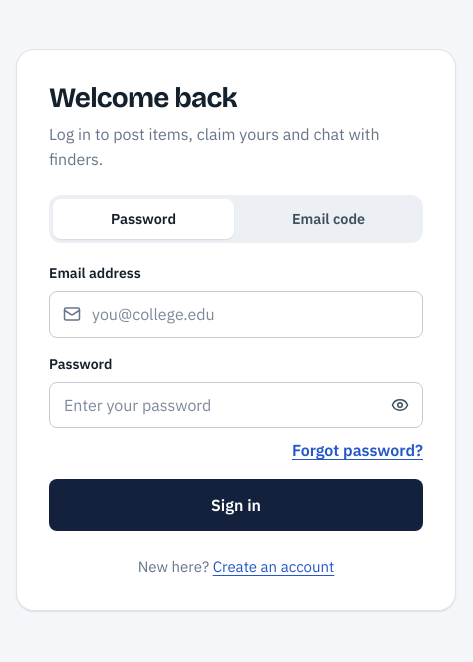
Test: Login page › shows the server error and does not navigate when login fails
Type "riya@college.edu" into the field labelled "Email address" at (236, 314), box [49,291,423,338]
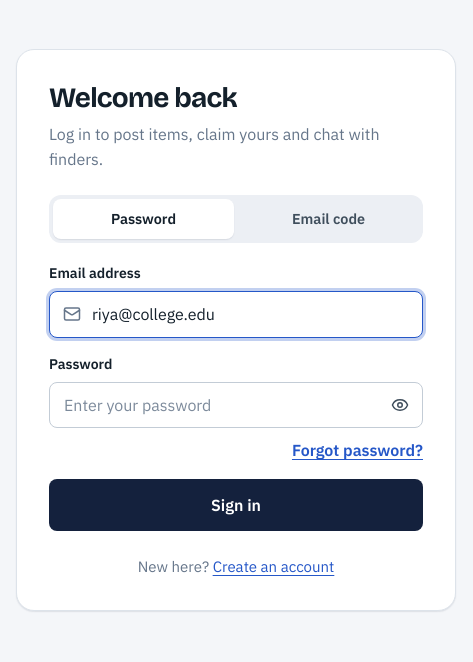
Type "wrong-password" into the password field labelled "Password" at (236, 405), box [49,382,423,428]
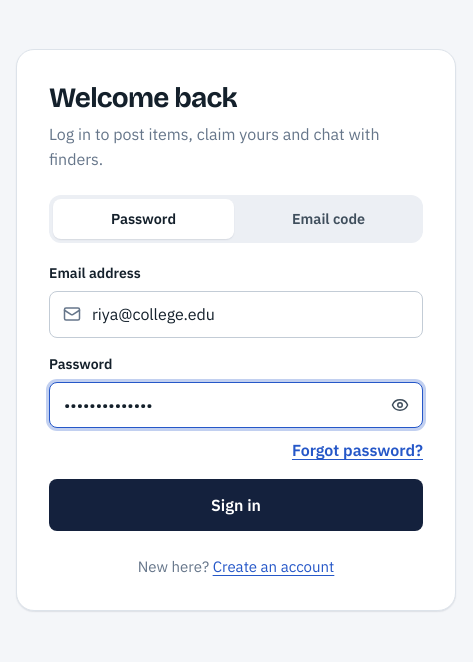
Click the button "Sign in" at (236, 505), box [49,479,423,531]
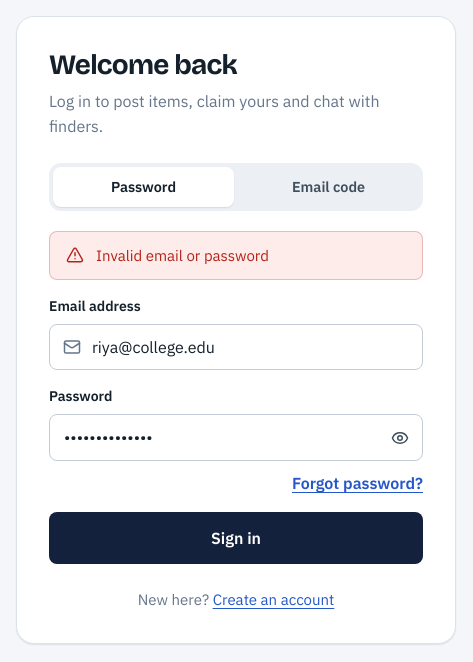
Result: the message reads "Invalid email or password" at [96,246,269,265]
